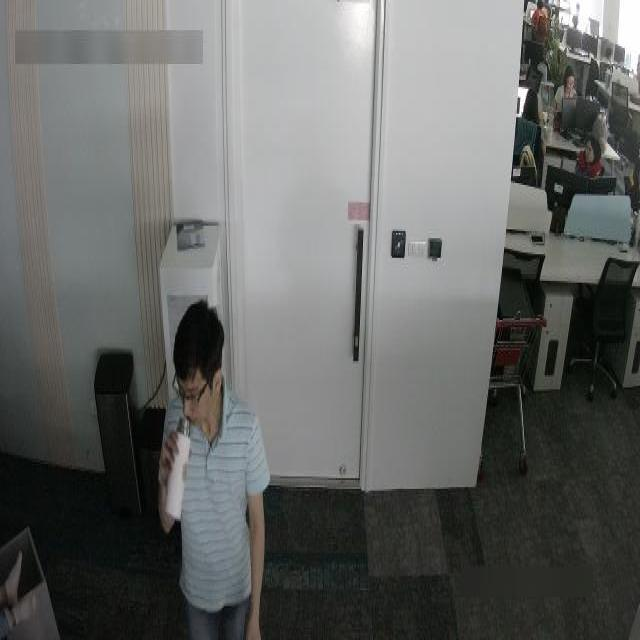bare_hand: (158, 425, 187, 476), (245, 606, 267, 640)
